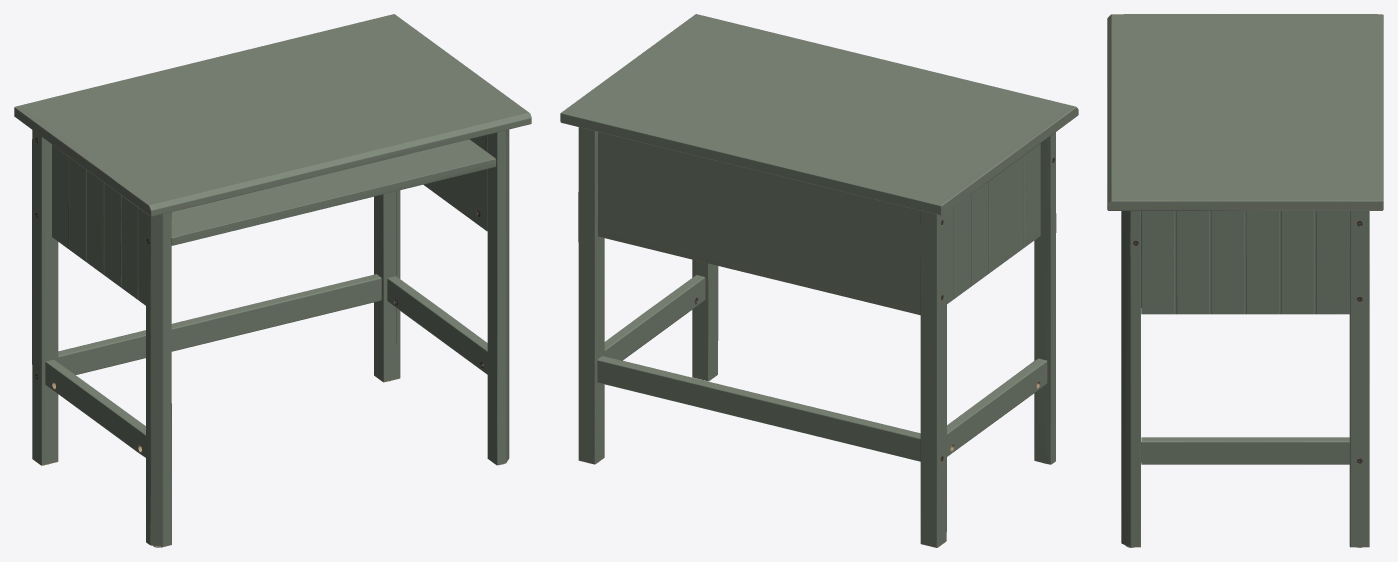
The model's file is brytning_biurko_70609749.glb.
The picture shows the model from 3 angles, left to right: view 1: azimuth 30°, elevation 25°; view 2: azimuth 150°, elevation 25°; view 3: azimuth 270°, elevation 25°; orthographic projection.
Parts seen in each view (by area): view 1: brytning_biurko_70609749; view 2: brytning_biurko_70609749; view 3: brytning_biurko_70609749.
Part boxes in pixels (x1,y1,x2,y2): brytning_biurko_70609749: (14, 14, 531, 547); brytning_biurko_70609749: (560, 14, 1078, 547); brytning_biurko_70609749: (1107, 14, 1383, 547).
Size of the model in its own units: 0.85 by 0.7501 by 0.53.
Materials: 1 (1 with a texture image).
